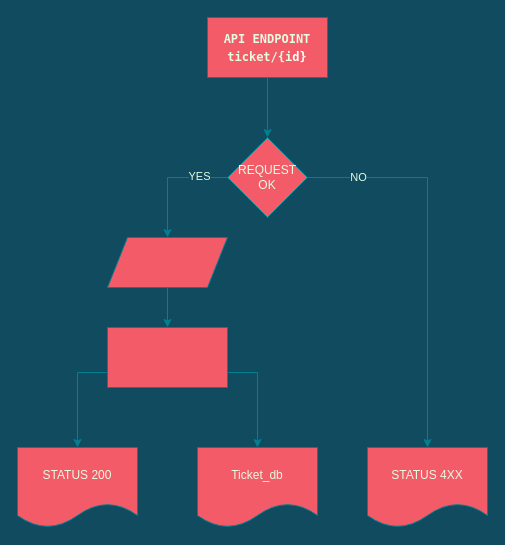
Image size: 505x545. Some labels were removed from this diagram. Each missing label, with the centre of its shape:
"DATA" belongs at (167,262).
"RESPONSE" belongs at (167,357).
